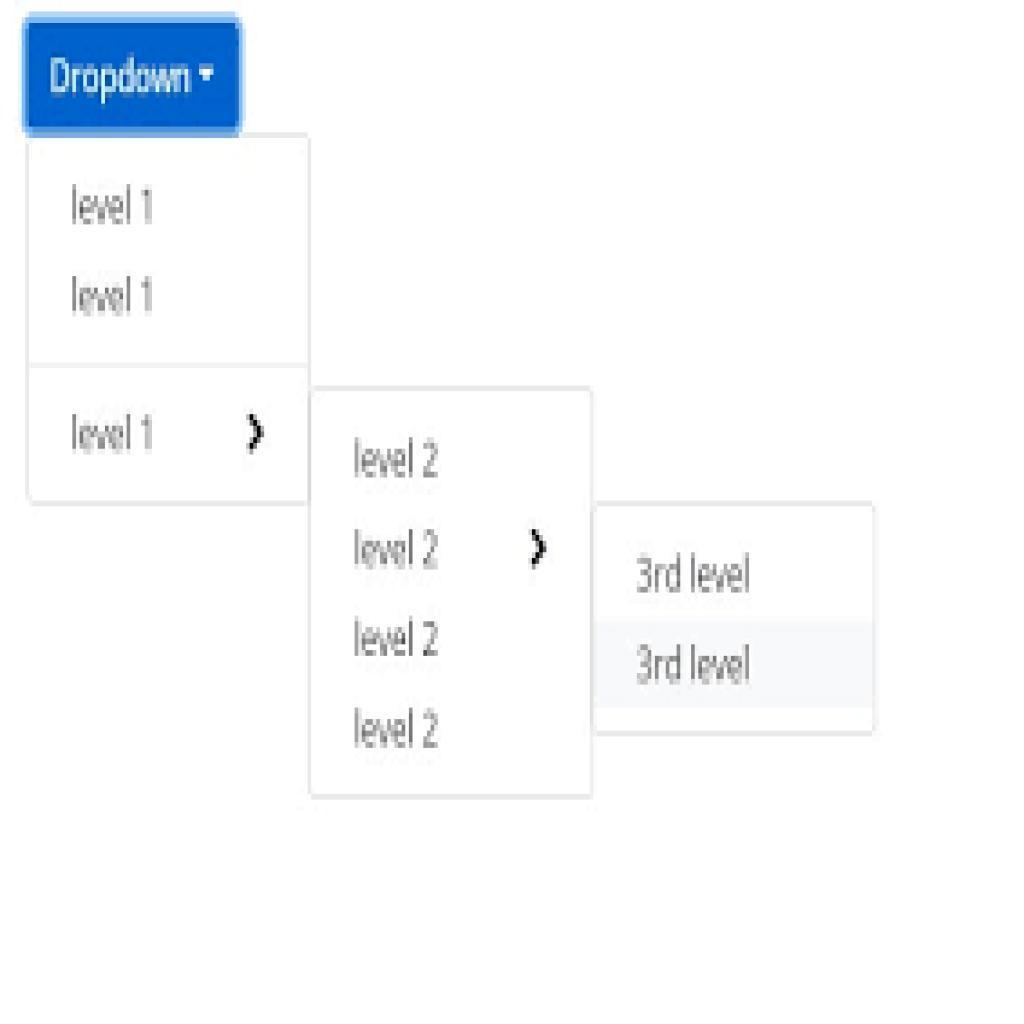dropdown: (27, 22, 239, 131)
